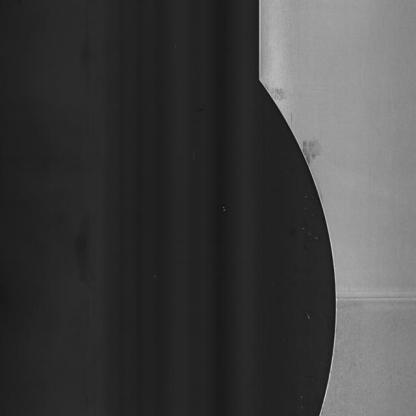crescent_gap: (247, 62, 341, 416)
welding_line: (320, 279, 416, 322)
